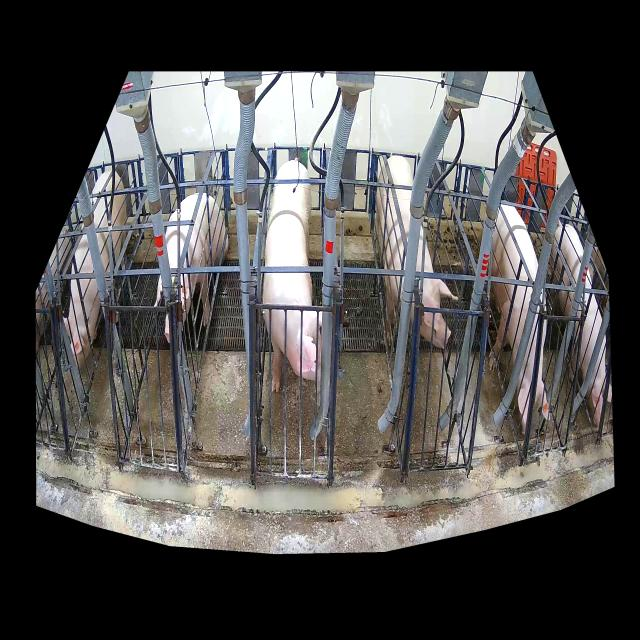pig: (376, 156, 457, 350), (488, 203, 549, 433), (263, 161, 322, 393), (62, 171, 128, 370), (550, 223, 611, 427), (154, 193, 228, 345)
